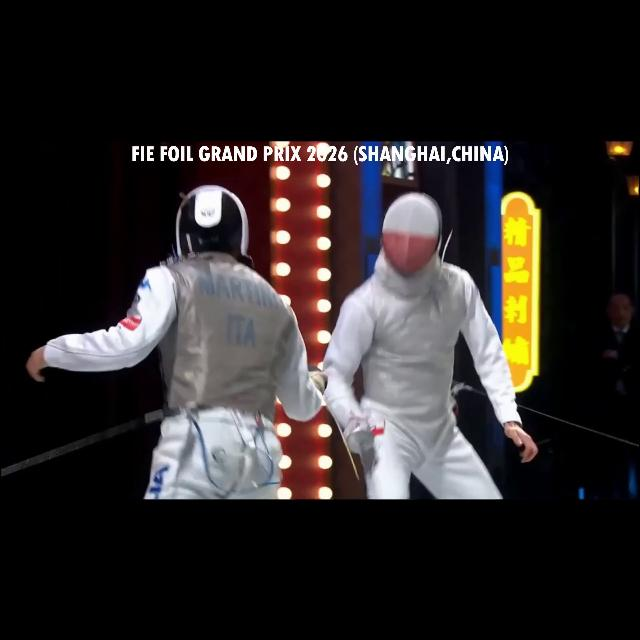blade: (344, 420, 382, 500)
